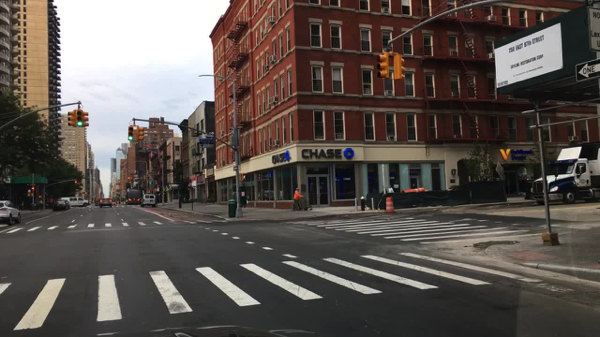car: (0, 200, 22, 227), (59, 196, 90, 207), (125, 189, 142, 205), (140, 194, 157, 207), (52, 199, 70, 211), (99, 197, 112, 207), (44, 202, 53, 208), (94, 198, 100, 206), (111, 201, 118, 206), (91, 199, 95, 203)
person: (292, 188, 304, 212), (240, 184, 249, 208), (387, 184, 394, 194), (39, 198, 44, 211)
traffic light: (378, 54, 388, 79), (396, 54, 406, 79), (76, 110, 84, 128), (67, 110, 74, 127), (82, 110, 89, 127), (128, 126, 133, 142), (139, 127, 144, 142), (241, 174, 247, 180), (126, 176, 130, 182), (38, 194, 41, 199), (84, 190, 87, 195), (143, 174, 145, 181), (75, 179, 77, 185), (32, 187, 35, 191), (147, 190, 151, 193)
traffic sign: (574, 58, 599, 85), (587, 6, 599, 51), (198, 137, 214, 147), (191, 176, 196, 188), (151, 180, 156, 185), (233, 166, 237, 171), (30, 184, 36, 186)
truck: (529, 143, 598, 205)
